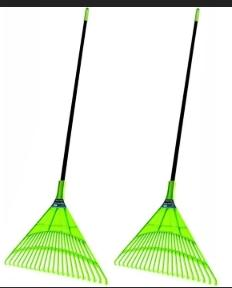RATEAU: (3, 3, 232, 288)
